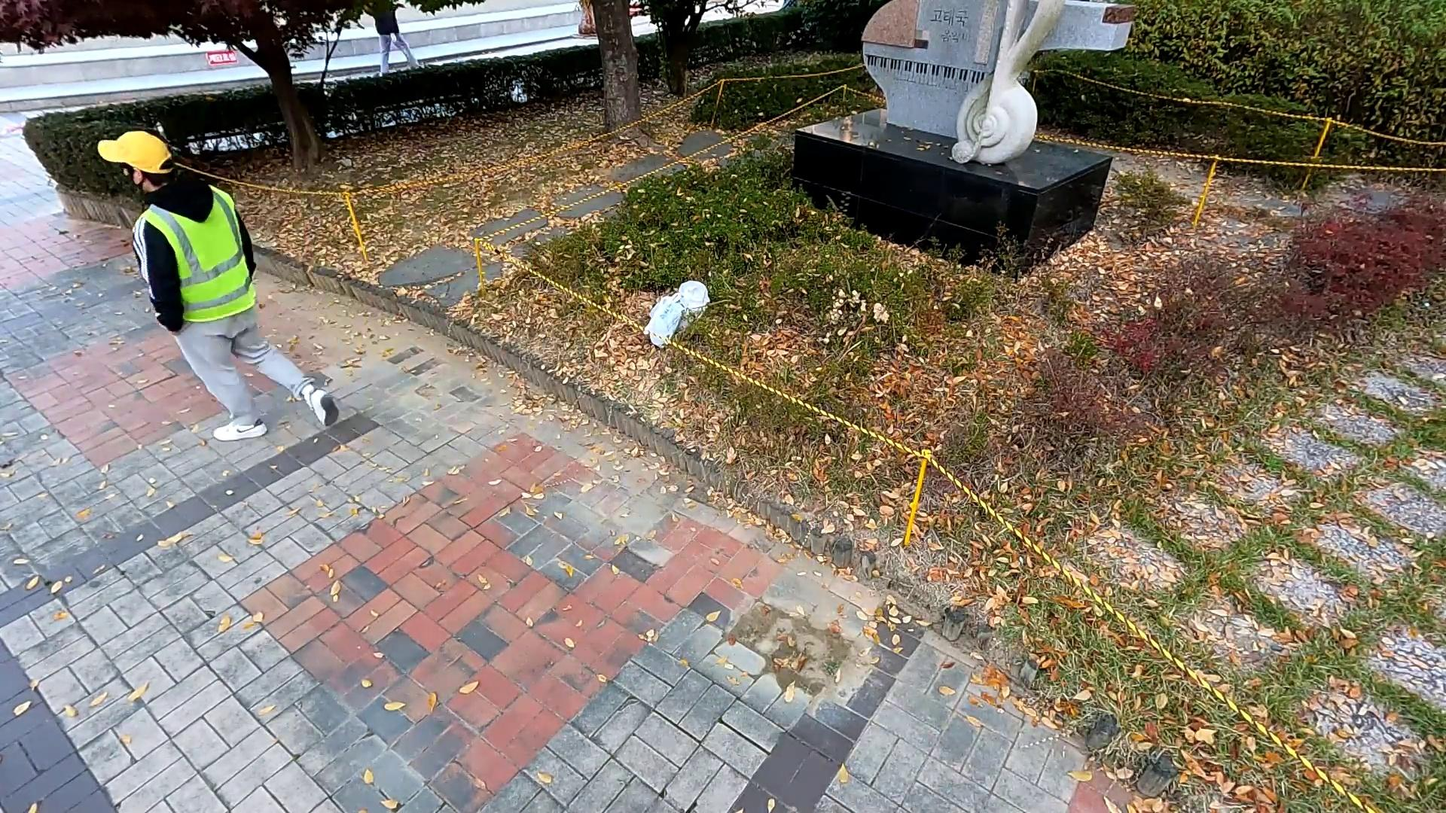person: (78, 116, 360, 446)
trash: (642, 290, 691, 361), (665, 275, 716, 323)
